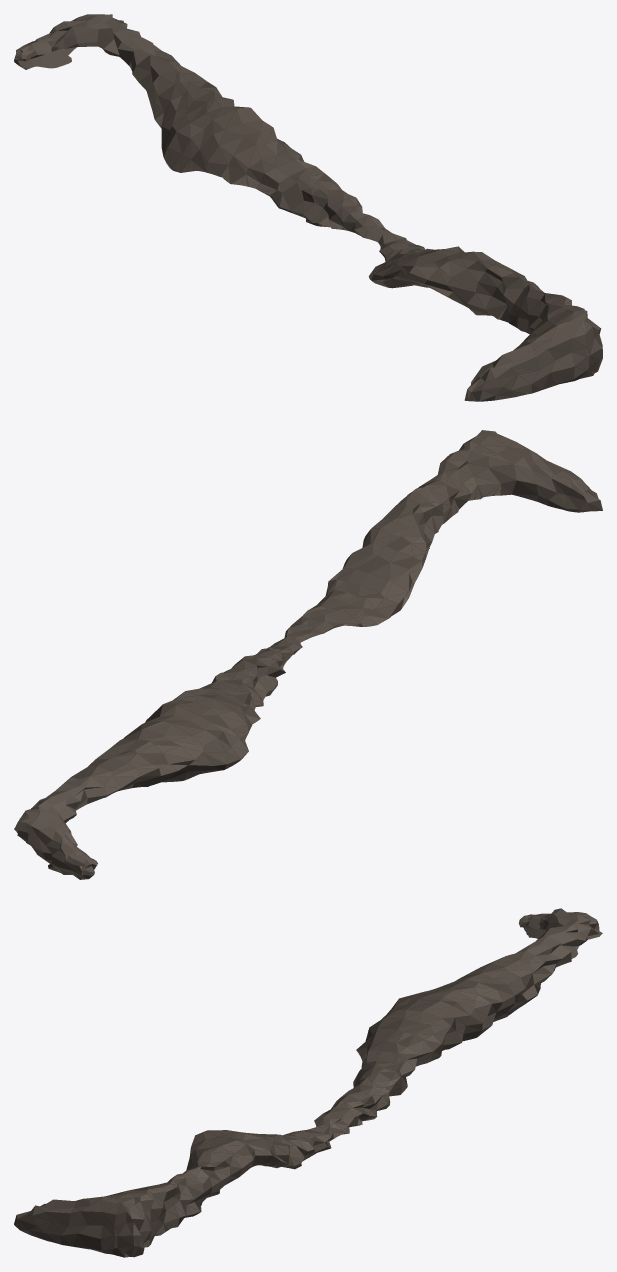
Rendered from Right Boundary Rock.fbx.
3 views of the same model, one above another, from view 1: azimuth 30°, elevation 25°; view 2: azimuth 150°, elevation 25°; view 3: azimuth 330°, elevation 25° (orthographic). The views are drawn at different scales.
Parts seen in each view (by area): view 1: Cube.006; view 2: Cube.006; view 3: Cube.006.
Part boxes in pixels (left/top/right/bottom): Cube.006: left=14, top=14, right=602, bottom=401; Cube.006: left=14, top=430, right=602, bottom=879; Cube.006: left=14, top=908, right=602, bottom=1257.
Size of the model in its own units: 1308 by 903 by 8063.
1 material, 1 textured.
